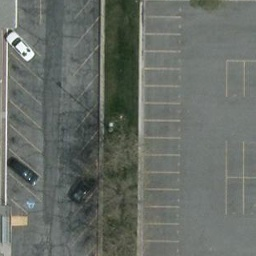car: (69, 172, 103, 206), (6, 32, 37, 61), (10, 155, 39, 185)
